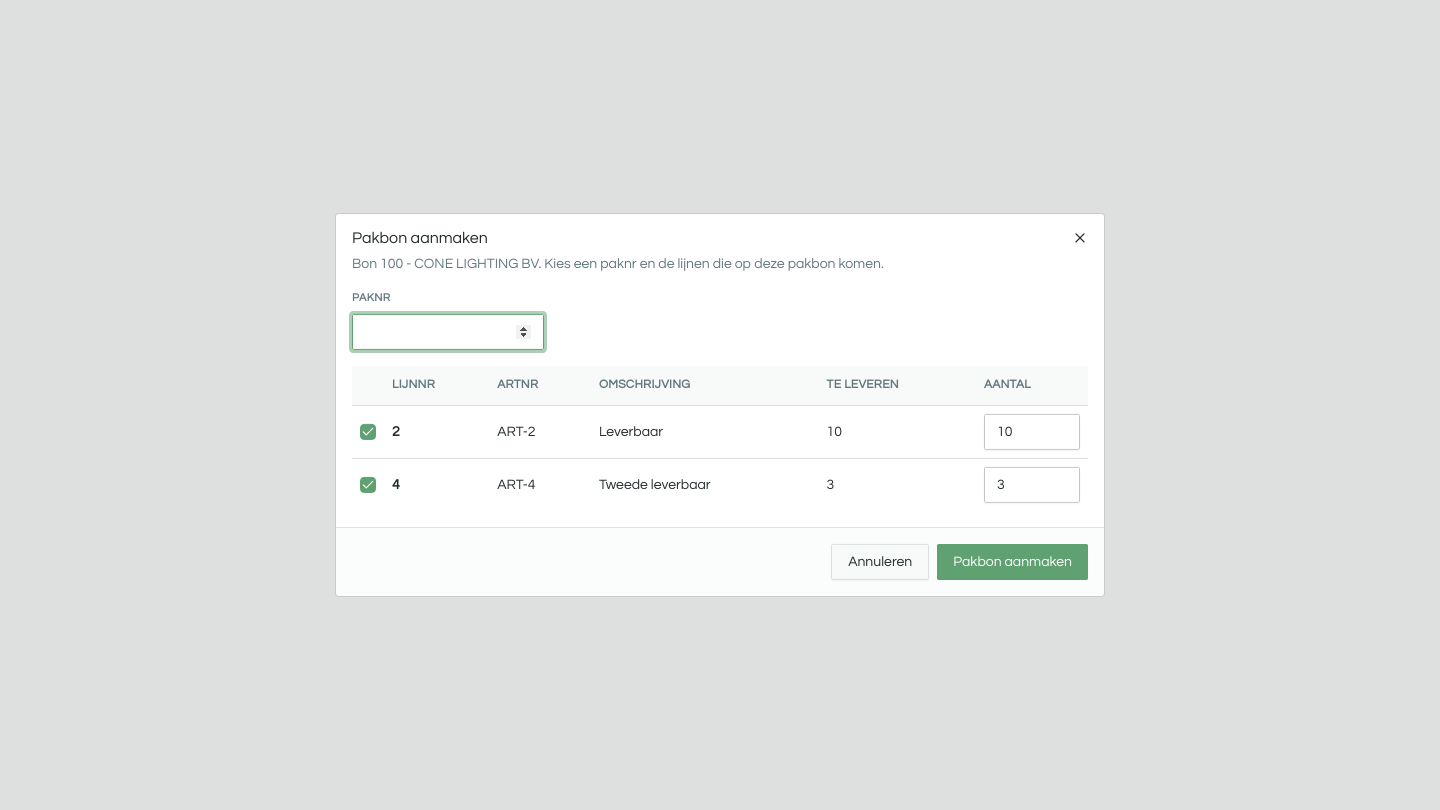
Test: PakbonAanmakenDialog › warns that the head exists when the very first paklijn fails
Step 1. Type "9" into the number field labelled "Paknr" → (448, 332), box [352,314,544,350]
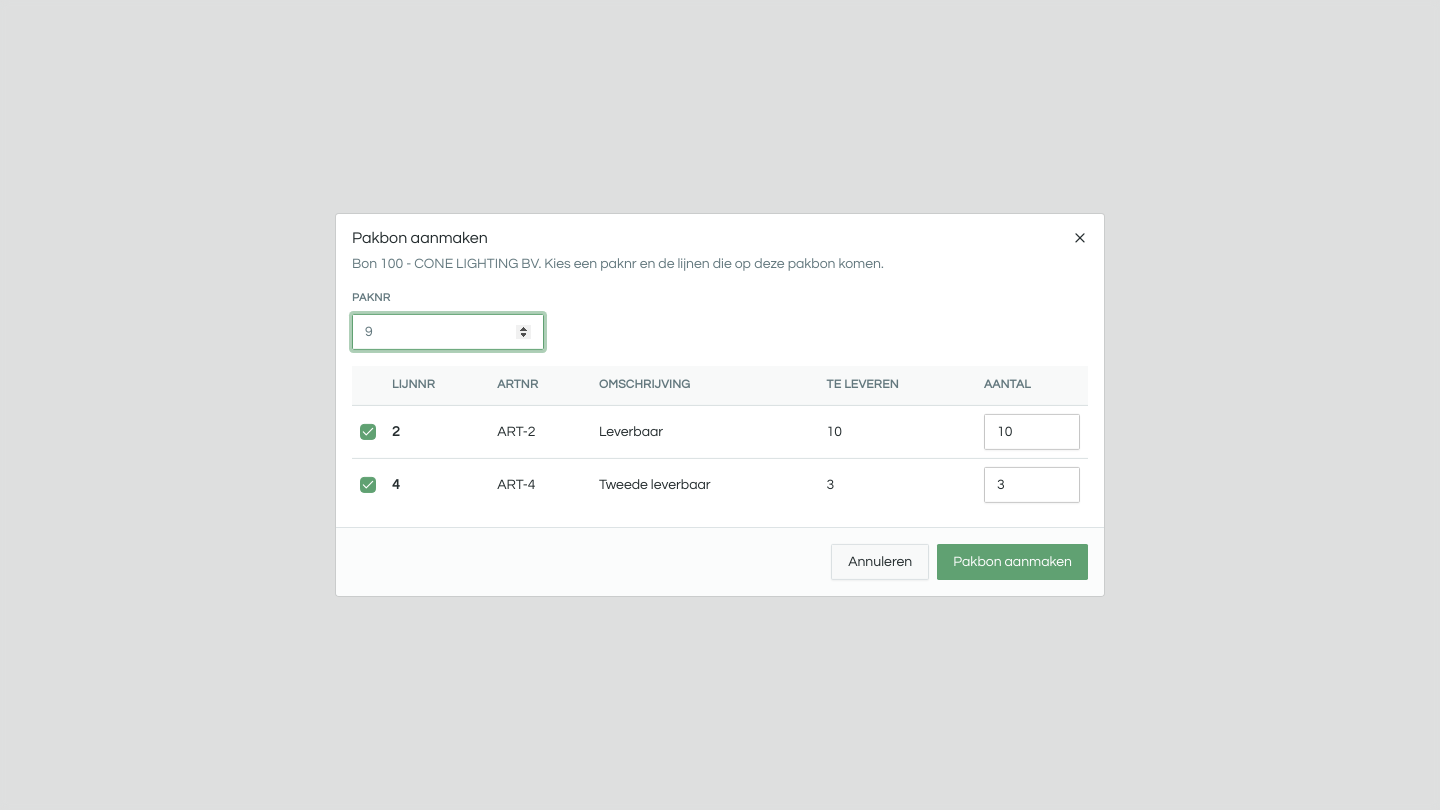
Step 2. Click the button "Pakbon aanmaken" → (1013, 562), box [937,544,1088,580]
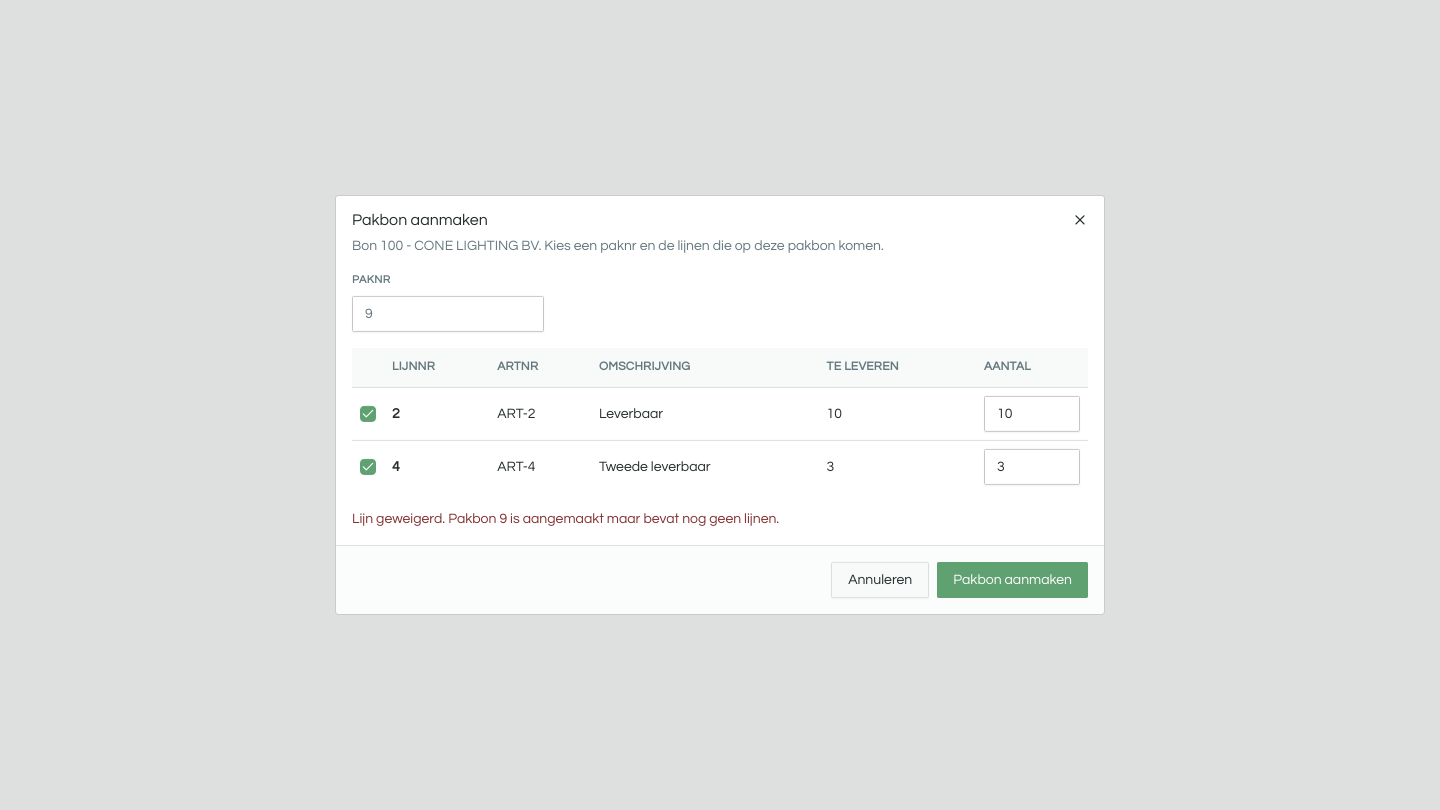
Check: the text "Lijn geweigerd. Pakbon 9 is aangemaakt maar bevat nog geen lijnen." is shown, box [352,512,779,526]
